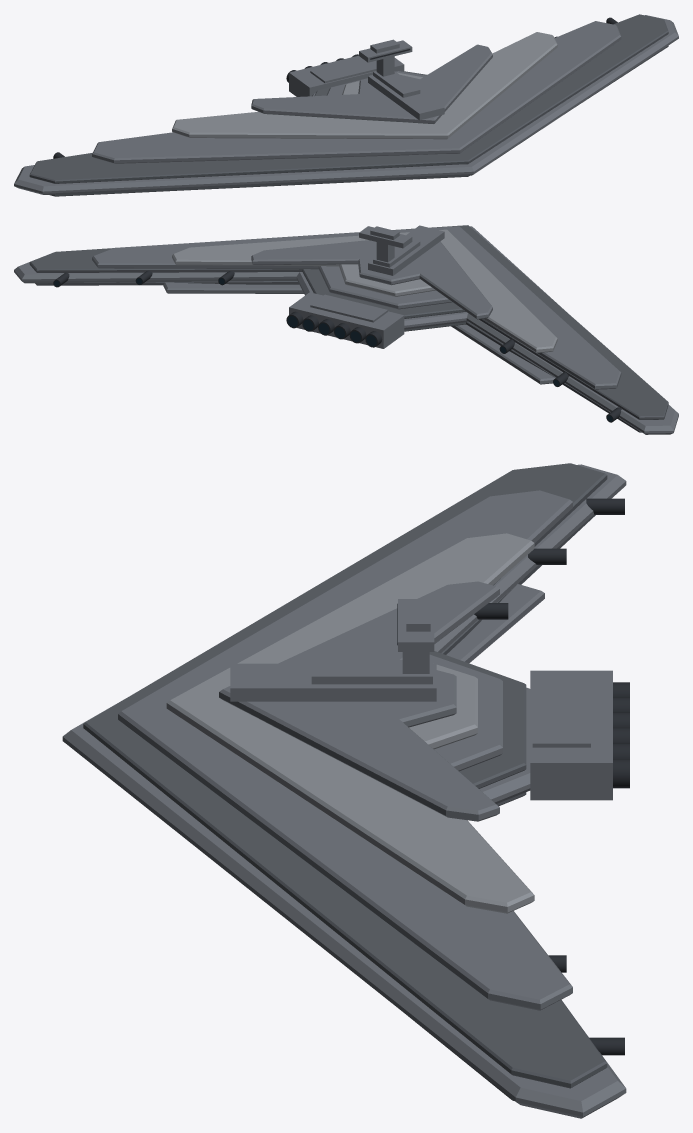
File: dread_step07_drive_section.glb
3 renders of one model, top to bottom at view 1: azimuth 30°, elevation 25°; view 2: azimuth 150°, elevation 25°; view 3: azimuth 270°, elevation 25°, orthographic. The views are drawn at different scales.
Visible parts, largest first — view 1: deck_tier_1, armour_dorsal, deck_tier_2, wing_core, deck_tier_3, spine_bridge, engine_block, armour_ventral; view 2: deck_tier_1, armour_dorsal, deck_tier_2, wing_core, deck_tier_3, engine_block, ventral_tier, spine_bridge, engine_nozzles, armour_ventral, engine_thrust; view 3: deck_tier_1, armour_dorsal, deck_tier_2, deck_tier_3, wing_core, engine_block, spine_bridge, engine_nozzles, ventral_tier.
Boxes of the visible parts, x1,y1,x2,y2 form: deck_tier_1: (92,21,621,163); armour_dorsal: (29,14,668,183); deck_tier_2: (172,32,557,139); wing_core: (14,15,678,194); deck_tier_3: (251,44,492,123); spine_bridge: (359,39,444,120); engine_block: (289,55,404,96); armour_ventral: (50,45,668,196); deck_tier_1: (92,226,621,389); armour_dorsal: (29,225,668,419); deck_tier_2: (172,229,557,352); wing_core: (14,226,678,434); deck_tier_3: (251,240,492,319); engine_block: (289,292,404,348); ventral_tier: (163,282,555,384); spine_bridge: (359,225,444,275); engine_nozzles: (53,270,621,422); armour_ventral: (35,281,641,432); engine_thrust: (54,278,612,421); deck_tier_1: (118,490,572,1010); armour_dorsal: (83,463,607,1088); deck_tier_2: (166,533,534,913); deck_tier_3: (219,581,499,821); wing_core: (62,464,626,1118); engine_block: (530,670,612,800); spine_bridge: (230,599,436,701); engine_nozzles: (474,498,629,1055); ventral_tier: (446,584,544,663).
Bounding box in the file's own units: 62.7 × 8.73 × 23.37.
